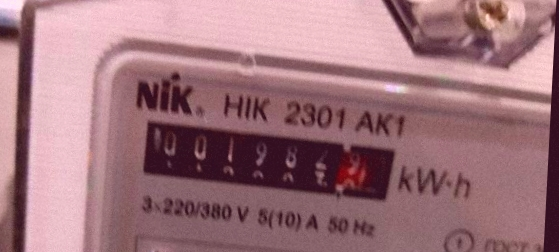0: (191, 131, 210, 161), (161, 126, 179, 156)
1: (223, 133, 237, 162)
2: (313, 140, 332, 170)
8: (283, 140, 300, 168)
9: (343, 148, 365, 177), (252, 137, 268, 167)
screen: (125, 105, 410, 215)
